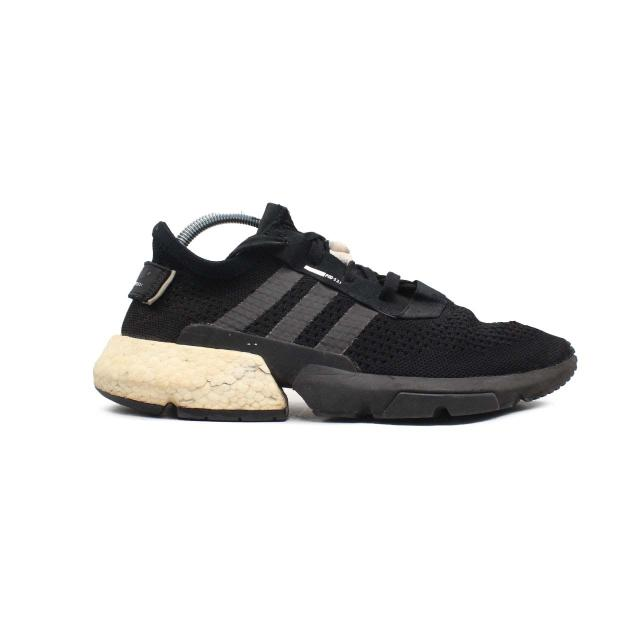heel: (119, 221, 219, 346)
midsole: (94, 331, 578, 427)
uppersole: (217, 205, 570, 377)
